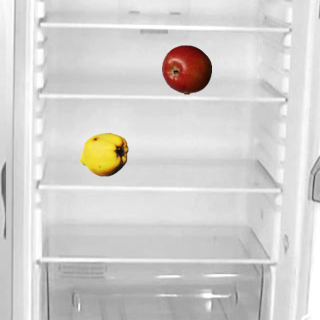Apple Braeburn: (161, 44, 211, 94)
Quince: (78, 129, 128, 179)
